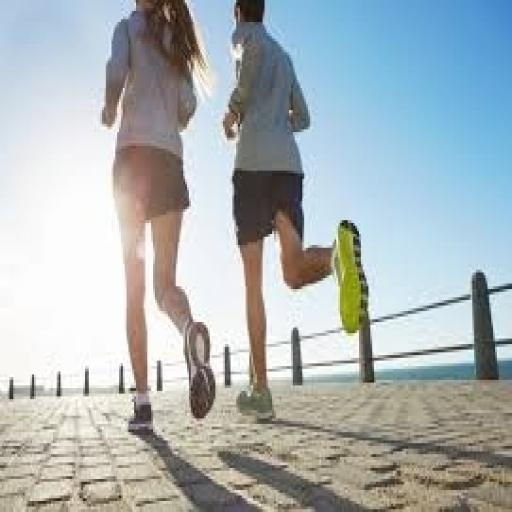running: (219, 0, 370, 424), (98, 0, 218, 438)
